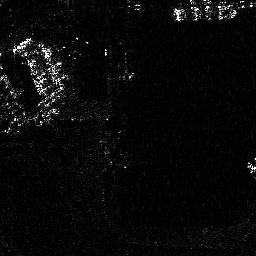ship: (169, 5, 237, 23)
